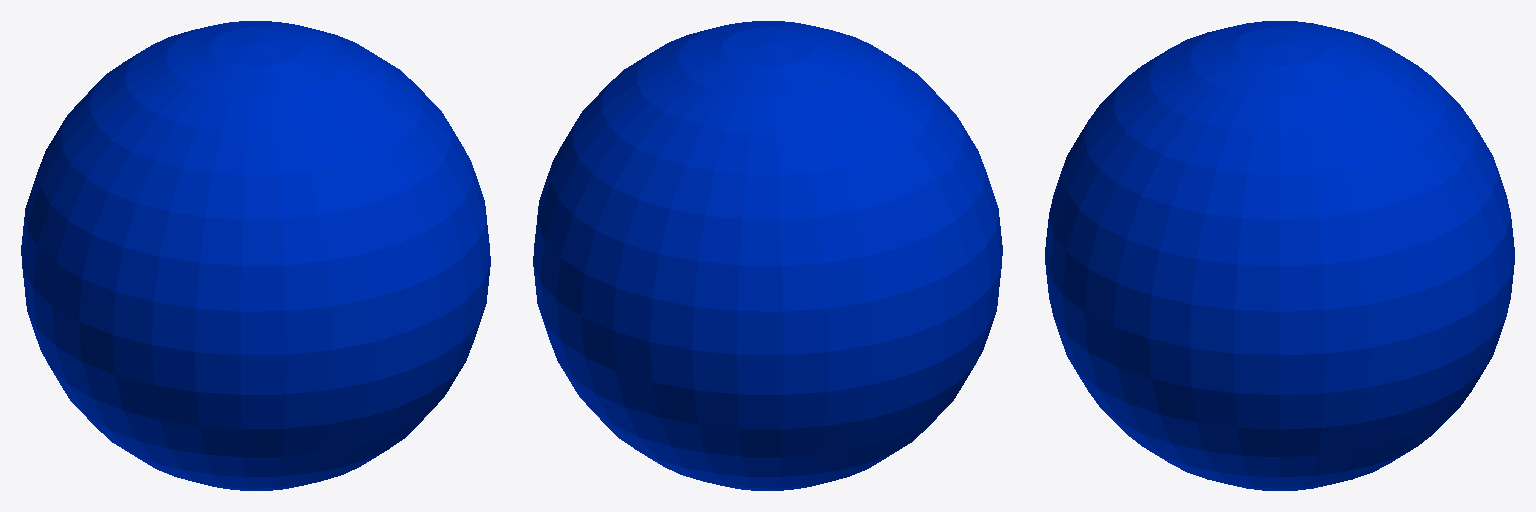
The model's file is bluesphere.obj.
3 views of the same model, side by side, from view 1: azimuth 30°, elevation 25°; view 2: azimuth 150°, elevation 25°; view 3: azimuth 270°, elevation 25° (orthographic).
Parts seen in each view (by area): view 1: sphere; view 2: sphere; view 3: sphere.
Part boxes in pixels (x1,y1,x2,y2): sphere: (21,21,490,490); sphere: (533,21,1002,490); sphere: (1045,21,1514,490).
Bounding box in the file's own units: 2 × 2 × 2.